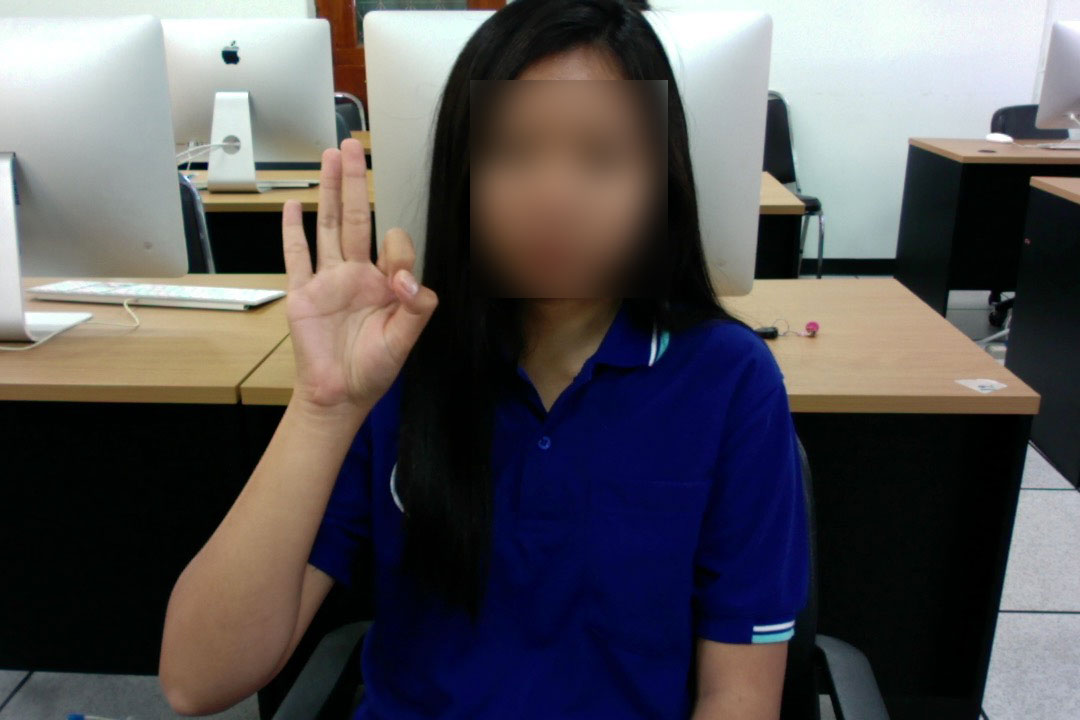for: (273, 127, 453, 422)
